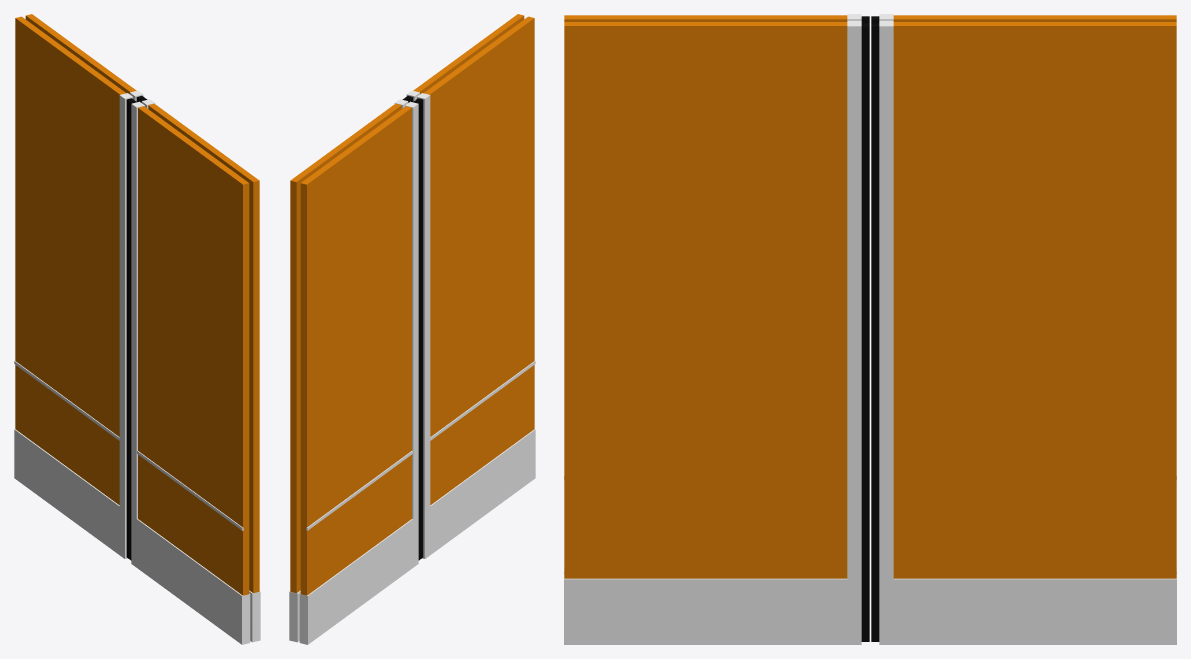
File: elevator_doors.fbx
The picture shows the model from 3 angles, left to right: view 1: azimuth 30°, elevation 25°; view 2: azimuth 150°, elevation 25°; view 3: azimuth 270°, elevation 25°; orthographic projection. The views are drawn at different scales.
Visible parts, largest first — view 1: elevator_door_right, elevator_door_left; view 2: elevator_door_left, elevator_door_right; view 3: elevator_door_left, elevator_door_right.
Part boxes in pixels (x1=…): elevator_door_right: x1=130, y1=98, x2=260, y2=644; elevator_door_left: x1=14, y1=14, x2=144, y2=559; elevator_door_left: x1=289, y1=98, x2=419, y2=644; elevator_door_right: x1=405, y1=14, x2=535, y2=559; elevator_door_left: x1=871, y1=14, x2=1176, y2=644; elevator_door_right: x1=564, y1=14, x2=869, y2=644.
Bounding box in the file's own units: 0.0967 × 2.28 × 2.05.
